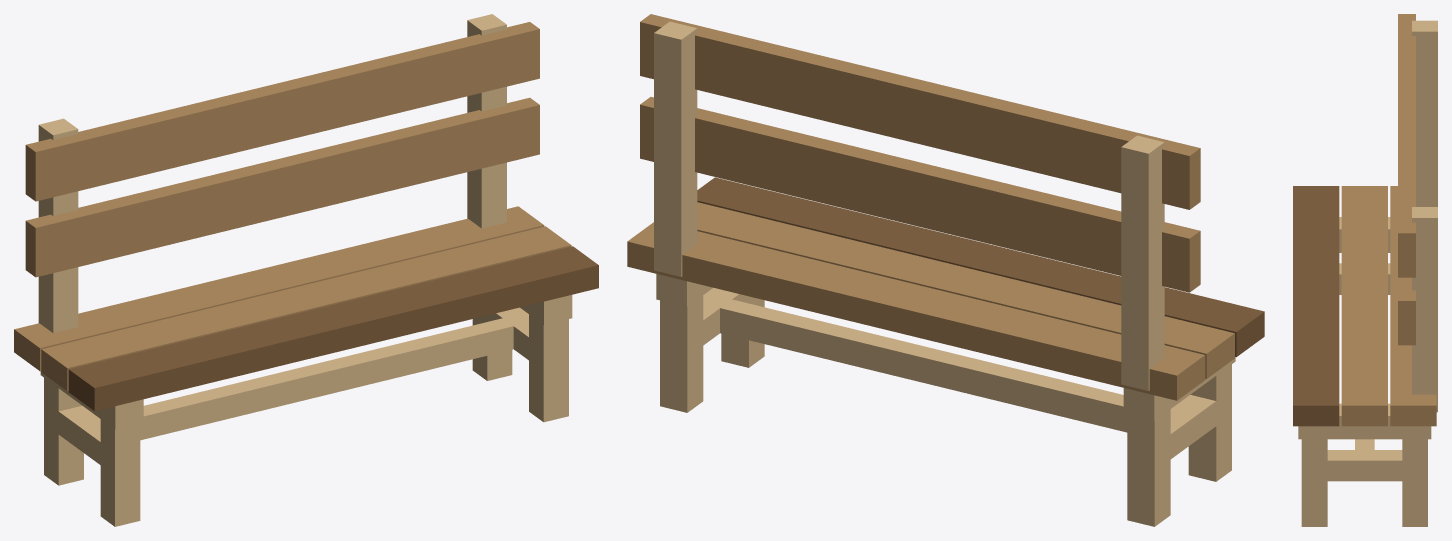
File: TW_BENCH_BACKREST_A_LOD0.glb
3 views of the same model, side by side, from view 1: azimuth 30°, elevation 25°; view 2: azimuth 150°, elevation 25°; view 3: azimuth 270°, elevation 25° (orthographic). The views are drawn at different scales.
Parts seen in each view (by area): view 1: TW_BENCH_BACKREST_A_LOD0; view 2: TW_BENCH_BACKREST_A_LOD0; view 3: TW_BENCH_BACKREST_A_LOD0.
Boxes of the visible parts, x1=… form: TW_BENCH_BACKREST_A_LOD0: x1=14, y1=14, x2=598, y2=526; TW_BENCH_BACKREST_A_LOD0: x1=627, y1=14, x2=1264, y2=526; TW_BENCH_BACKREST_A_LOD0: x1=1293, y1=14, x2=1437, y2=526.
Size of the model in its own units: 1.6 by 1.05 by 0.446.
Materials: 1 (1 with a texture image).
